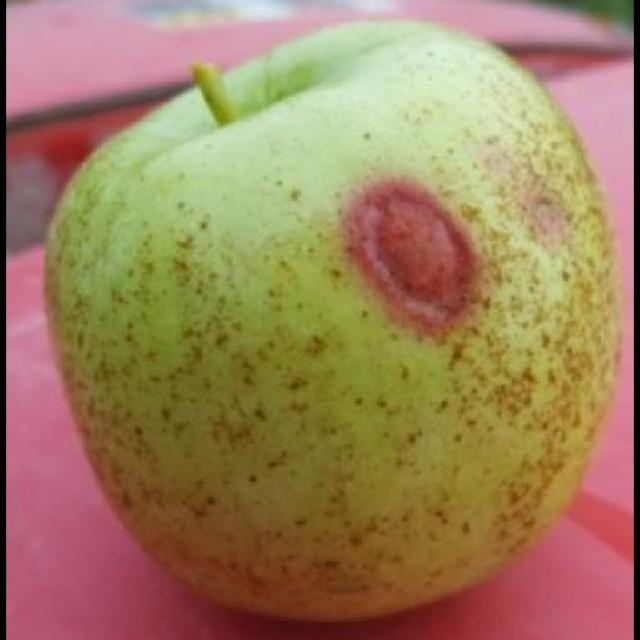Rotten Apple: (40, 16, 620, 624)
